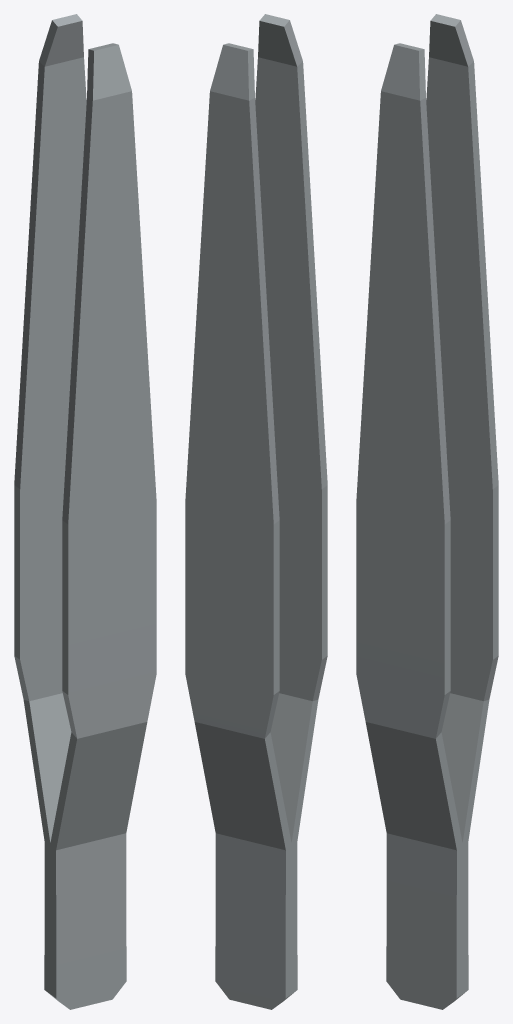
File: SM_Tweezers.glb
3 renders of one model, left to right at view 1: azimuth 30°, elevation 25°; view 2: azimuth 150°, elevation 25°; view 3: azimuth 330°, elevation 25°, orthographic.
Visible parts, largest first — view 1: SM_Tweezers; view 2: SM_Tweezers; view 3: SM_Tweezers.
Boxes of the visible parts, box(x1,y1,x2,y2) form: SM_Tweezers: box(14, 14, 156, 1009); SM_Tweezers: box(185, 14, 327, 1009); SM_Tweezers: box(356, 14, 498, 1009).
Size of the model in its own units: 0.00978 by 0.1022 by 0.0103.
1 material, 1 textured.
